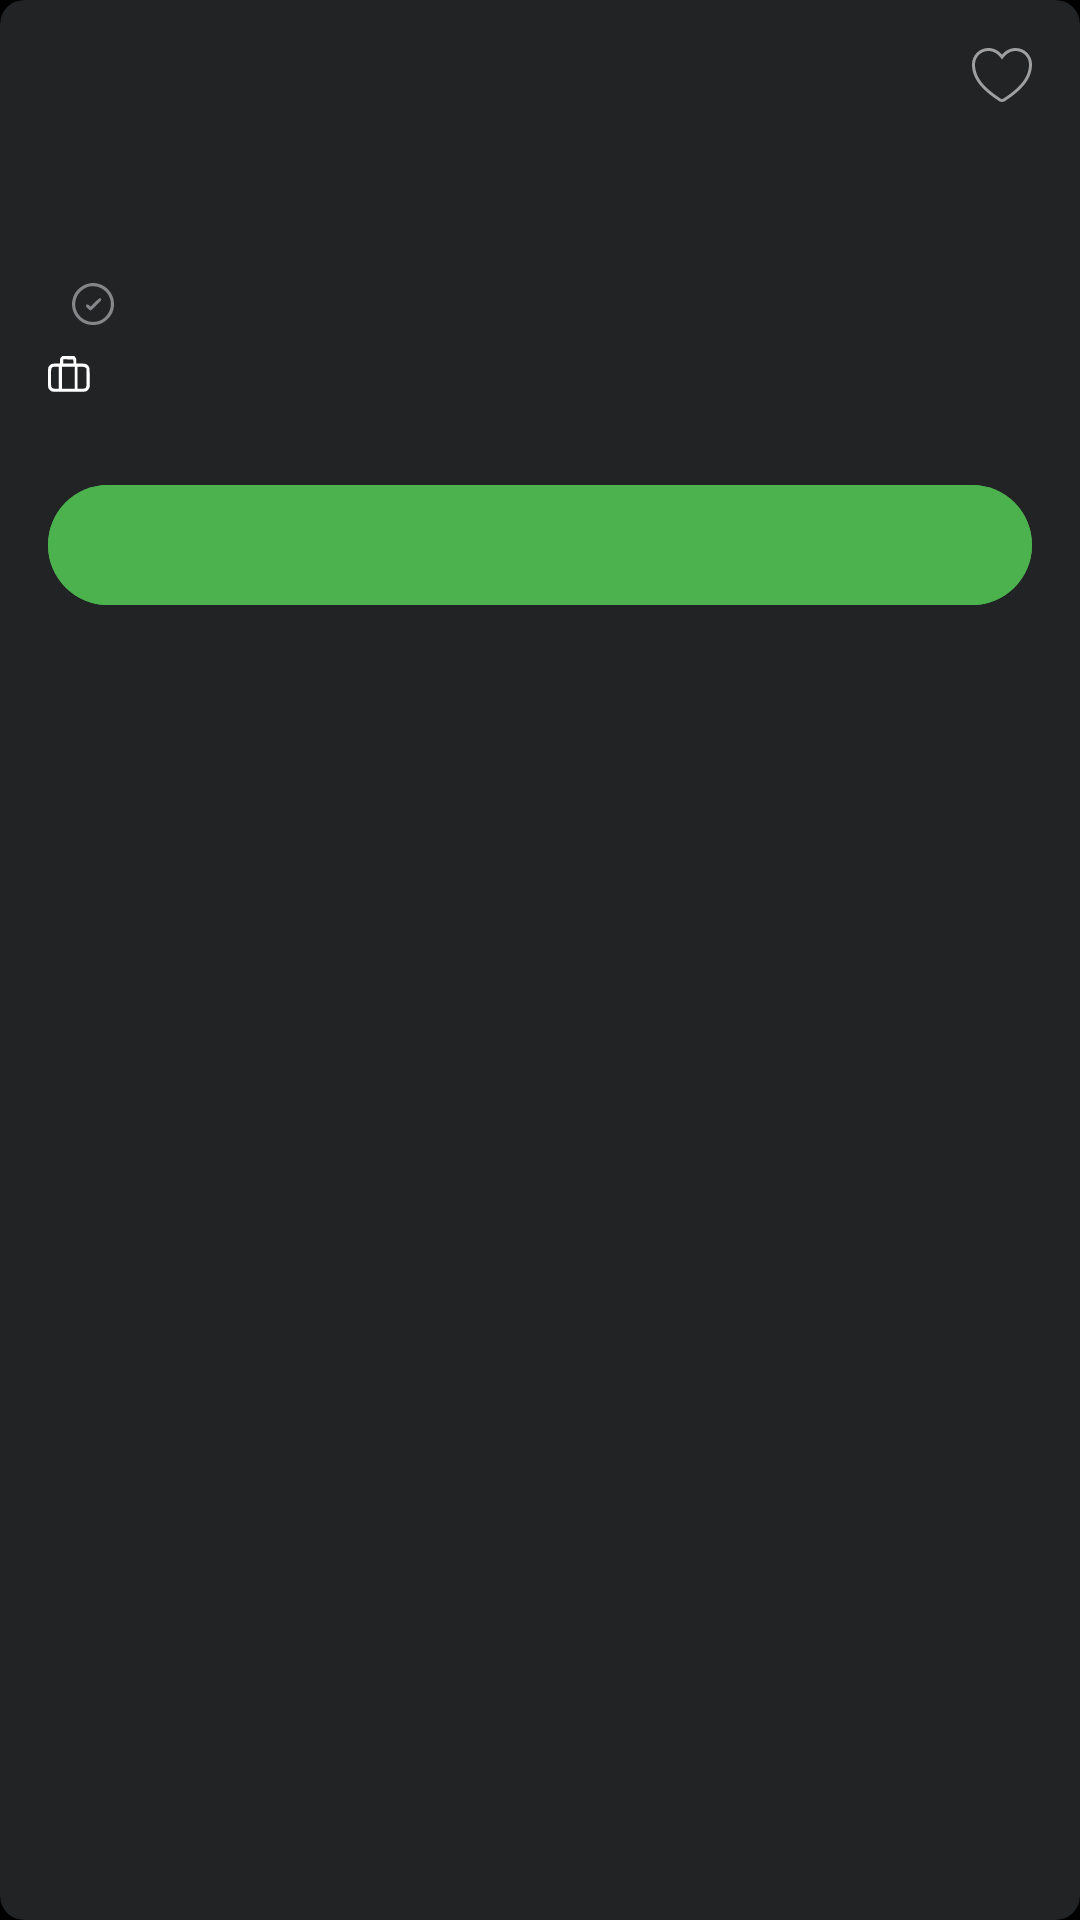

Icon bounding boxes for this 1080 x 1920 phone screenshot, format (x1, y1, x2, y2):
Иконка избранной вакансии: (972, 48, 1032, 102)
Иконка опыта работы: (48, 356, 90, 392)
